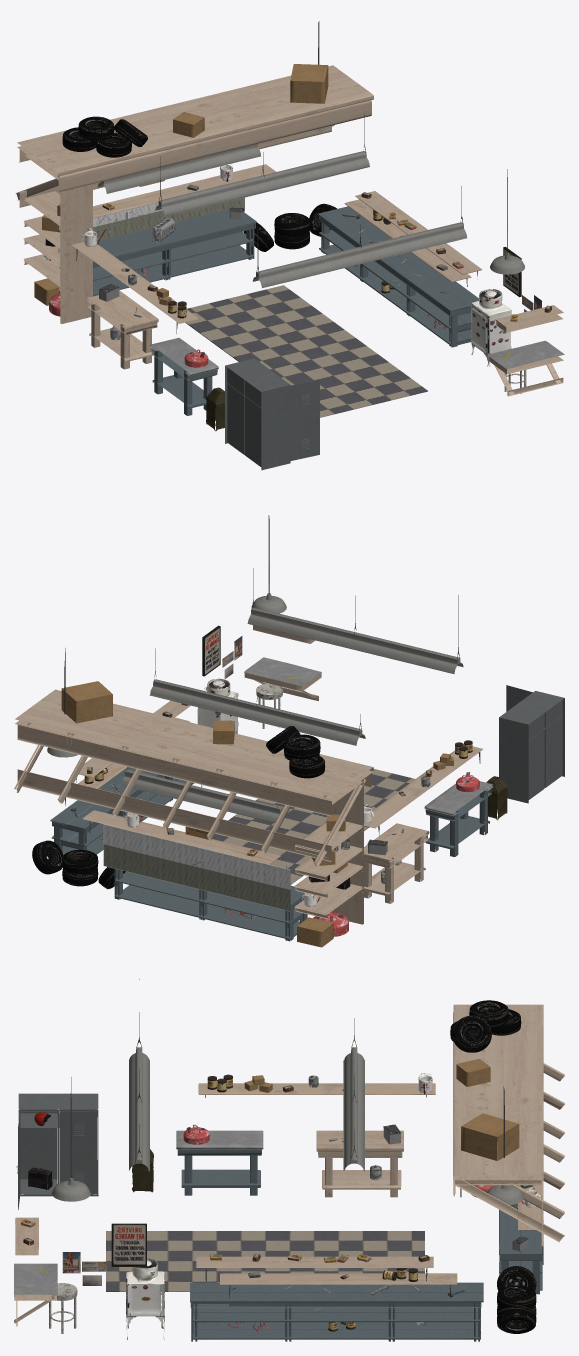
The model's file is oficina_por_dentro.glb.
3 views of the same model, one above another, from view 1: azimuth 30°, elevation 25°; view 2: azimuth 150°, elevation 25°; view 3: azimuth 270°, elevation 25° (orthographic). The views are drawn at different scales.
Visible parts, largest first — view 1: o_M_Shelf, o_WorkBench, o_M_CheckerBoard, o_M_LightHousing, o_M_Locker, o_M_Tire, o_M_SteelBrushed, o_M_CardboardBox, o_M_LockerDoor, o_M_PegBoard, o_M_Fridge, o_M_BlkBplastic (+2 smaller); view 2: o_M_Shelf, o_WorkBench, o_M_LightHousing, o_M_PegBoard, o_M_Locker, o_M_Tire, o_M_CardboardBox, o_M_CheckerBoard, o_M_SteelBrushed, o_M_Fridge, o_M_BlkBplastic, o_IMS_MetalGasCan_VRM_JackStand (+2 smaller); view 3: o_M_Shelf, o_WorkBench, o_M_CheckerBoard, o_M_LightHousing, o_M_Tire, o_M_Locker, o_M_SteelBrushed, o_M_CardboardBox, o_M_LockerDoor, o_M_Fridge, o_M_PosterWarning, o_M_BlkBplastic (+5 smaller).
Boxes of the visible parts, x1,y1,x2,y2 form: o_M_Shelf: (15, 65, 563, 396); o_WorkBench: (93, 206, 478, 415); o_M_CheckerBoard: (185, 285, 427, 417); o_M_LightHousing: (97, 125, 524, 288); o_M_Locker: (225, 358, 290, 470); o_M_Tire: (62, 116, 336, 251); o_M_SteelBrushed: (93, 210, 564, 423); o_M_CardboardBox: (34, 64, 328, 305); o_M_LockerDoor: (290, 379, 319, 460); o_M_PegBoard: (93, 197, 244, 241); o_M_Fridge: (471, 289, 511, 366); o_M_BlkBplastic: (76, 21, 507, 354); o_M_Shelf: (14, 625, 482, 924); o_WorkBench: (50, 767, 491, 941); o_M_LightHousing: (47, 593, 463, 822); o_M_PegBoard: (103, 824, 290, 911); o_M_Locker: (499, 691, 564, 803); o_M_Tire: (32, 726, 325, 889); o_M_CardboardBox: (61, 681, 453, 947); o_M_CheckerBoard: (212, 769, 414, 884); o_M_SteelBrushed: (99, 657, 493, 915); o_M_Fridge: (197, 678, 238, 733); o_M_BlkBplastic: (64, 515, 480, 916); o_IMS_MetalGasCan_VRM_JackStand: (224, 772, 479, 936); o_M_Shelf: (14, 1004, 564, 1326); o_WorkBench: (177, 1149, 542, 1341); o_M_CheckerBoard: (106, 1231, 424, 1291); o_M_LightHousing: (52, 1047, 523, 1205); o_M_Tire: (450, 1000, 536, 1333); o_M_Locker: (18, 1093, 98, 1196); o_M_SteelBrushed: (14, 1075, 528, 1326); o_M_CardboardBox: (244, 1058, 519, 1160); o_M_LockerDoor: (18, 1111, 96, 1209); o_M_Fridge: (126, 1258, 164, 1340); o_M_PosterWarning: (111, 1223, 146, 1266); o_M_BlkBplastic: (70, 979, 528, 1298).
Bounding box in the file's own units: 7.48 × 5.16 × 10.22.
Materials: 32 (31 with a texture image).
